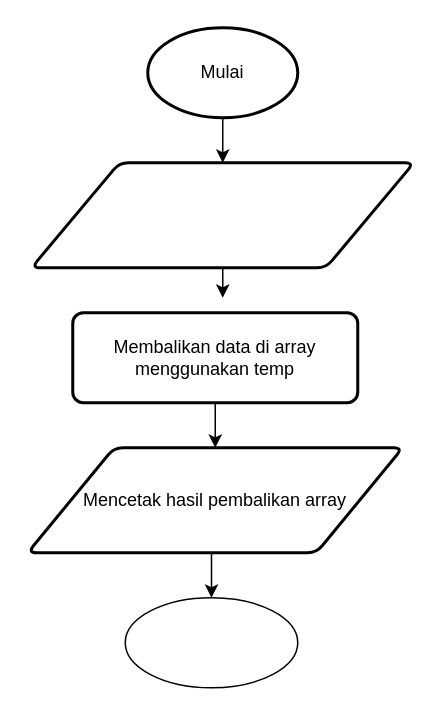
Image size: 441x714. Some labels were removed from this diagram. Each missing label, with the centre of its shape:
"Mendeklarasikan array arr dan panjang dari array arr" belongs at [222,214].
"Selesai" belongs at [211,642].
